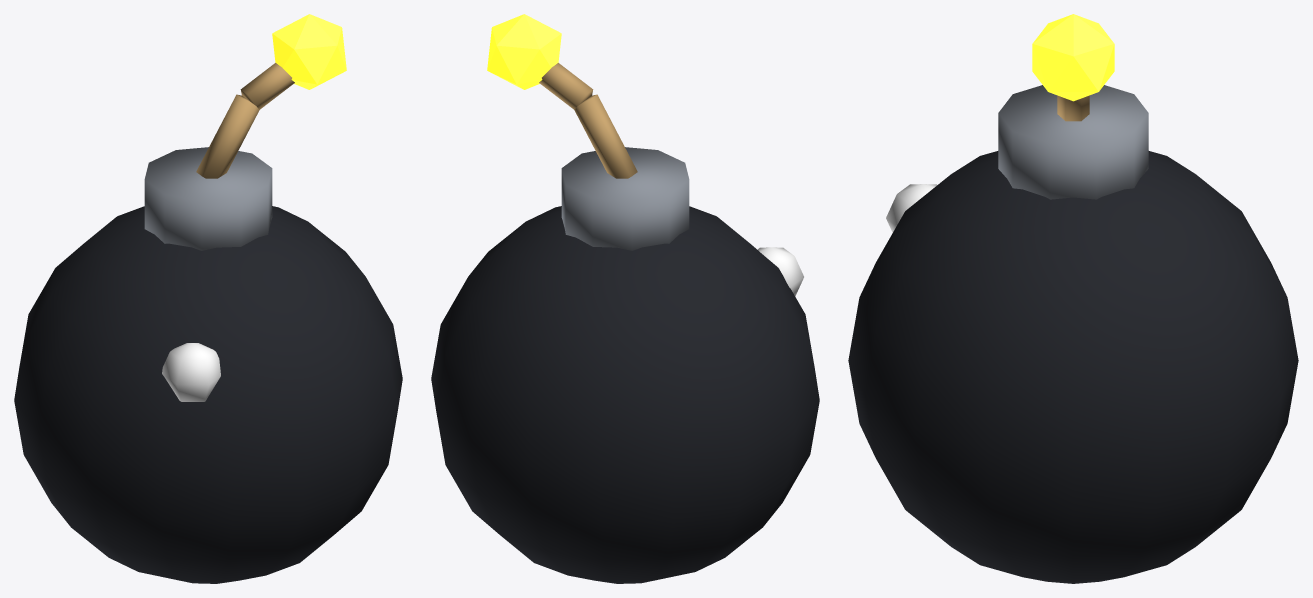
Rendered from powerup_bomb.glb.
3 renders of one model, left to right at view 1: azimuth 30°, elevation 25°; view 2: azimuth 150°, elevation 25°; view 3: azimuth 270°, elevation 25°, orthographic. The views are drawn at different scales.
Visible parts, largest first — view 1: Bomb; view 2: Bomb; view 3: Bomb.
Part boxes in pixels (x1=…): Bomb: x1=14, y1=14, x2=402, y2=583; Bomb: x1=431, y1=14, x2=819, y2=583; Bomb: x1=848, y1=14, x2=1298, y2=583.
Bounding box in the file's own units: 0.84 × 1.25 × 0.84.
